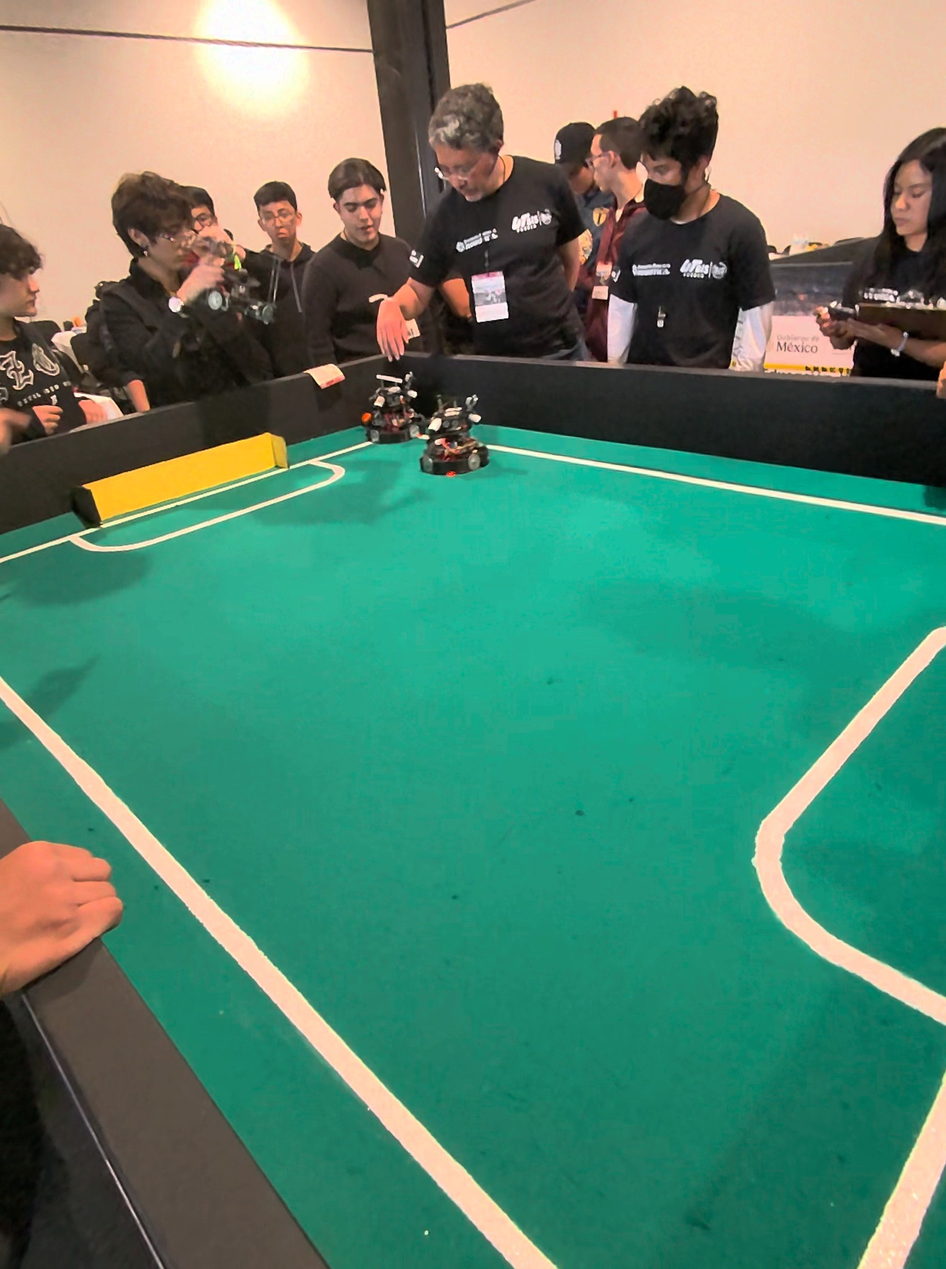Robot: (424, 385, 494, 480), (363, 352, 429, 447)
